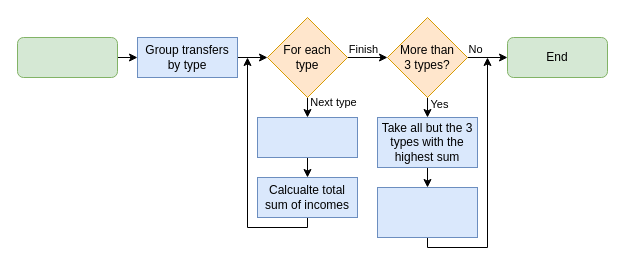
The diagram is 625 pixels wide and 273 high, and some of its shapes have lost their labels. The box of each missing label's shape, as (x1, y1, x2, y2) in pixels:
Calculate sum of incomes: (256, 116, 358, 158)
Start: (16, 36, 118, 78)
Summarize these types into a single instance: (376, 186, 478, 238)
